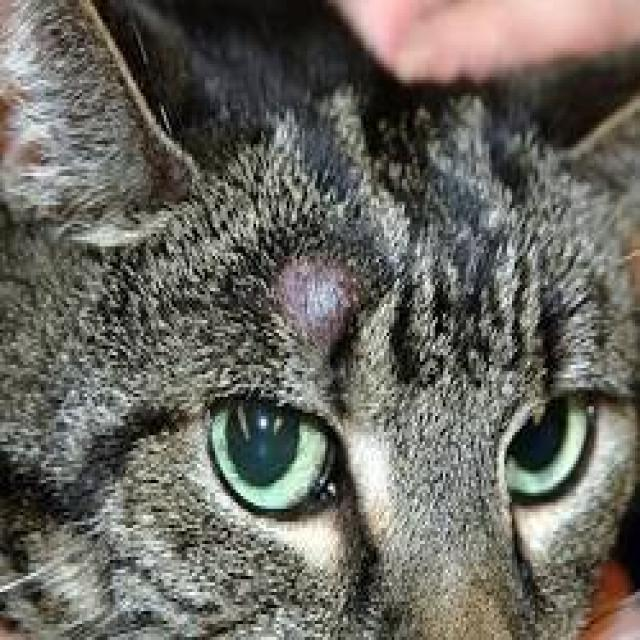cat-acne: (278, 257, 348, 331)
